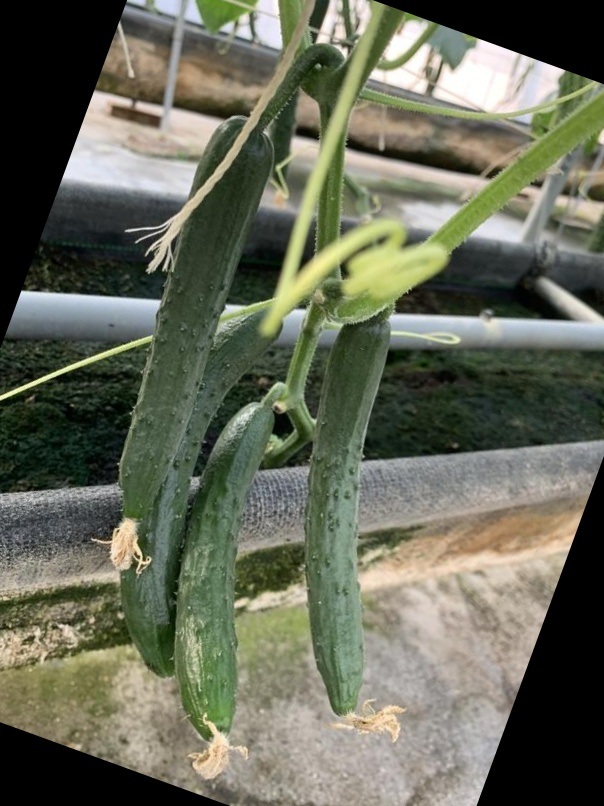mature: (104, 113, 280, 540), (296, 312, 397, 730), (165, 400, 280, 756)
